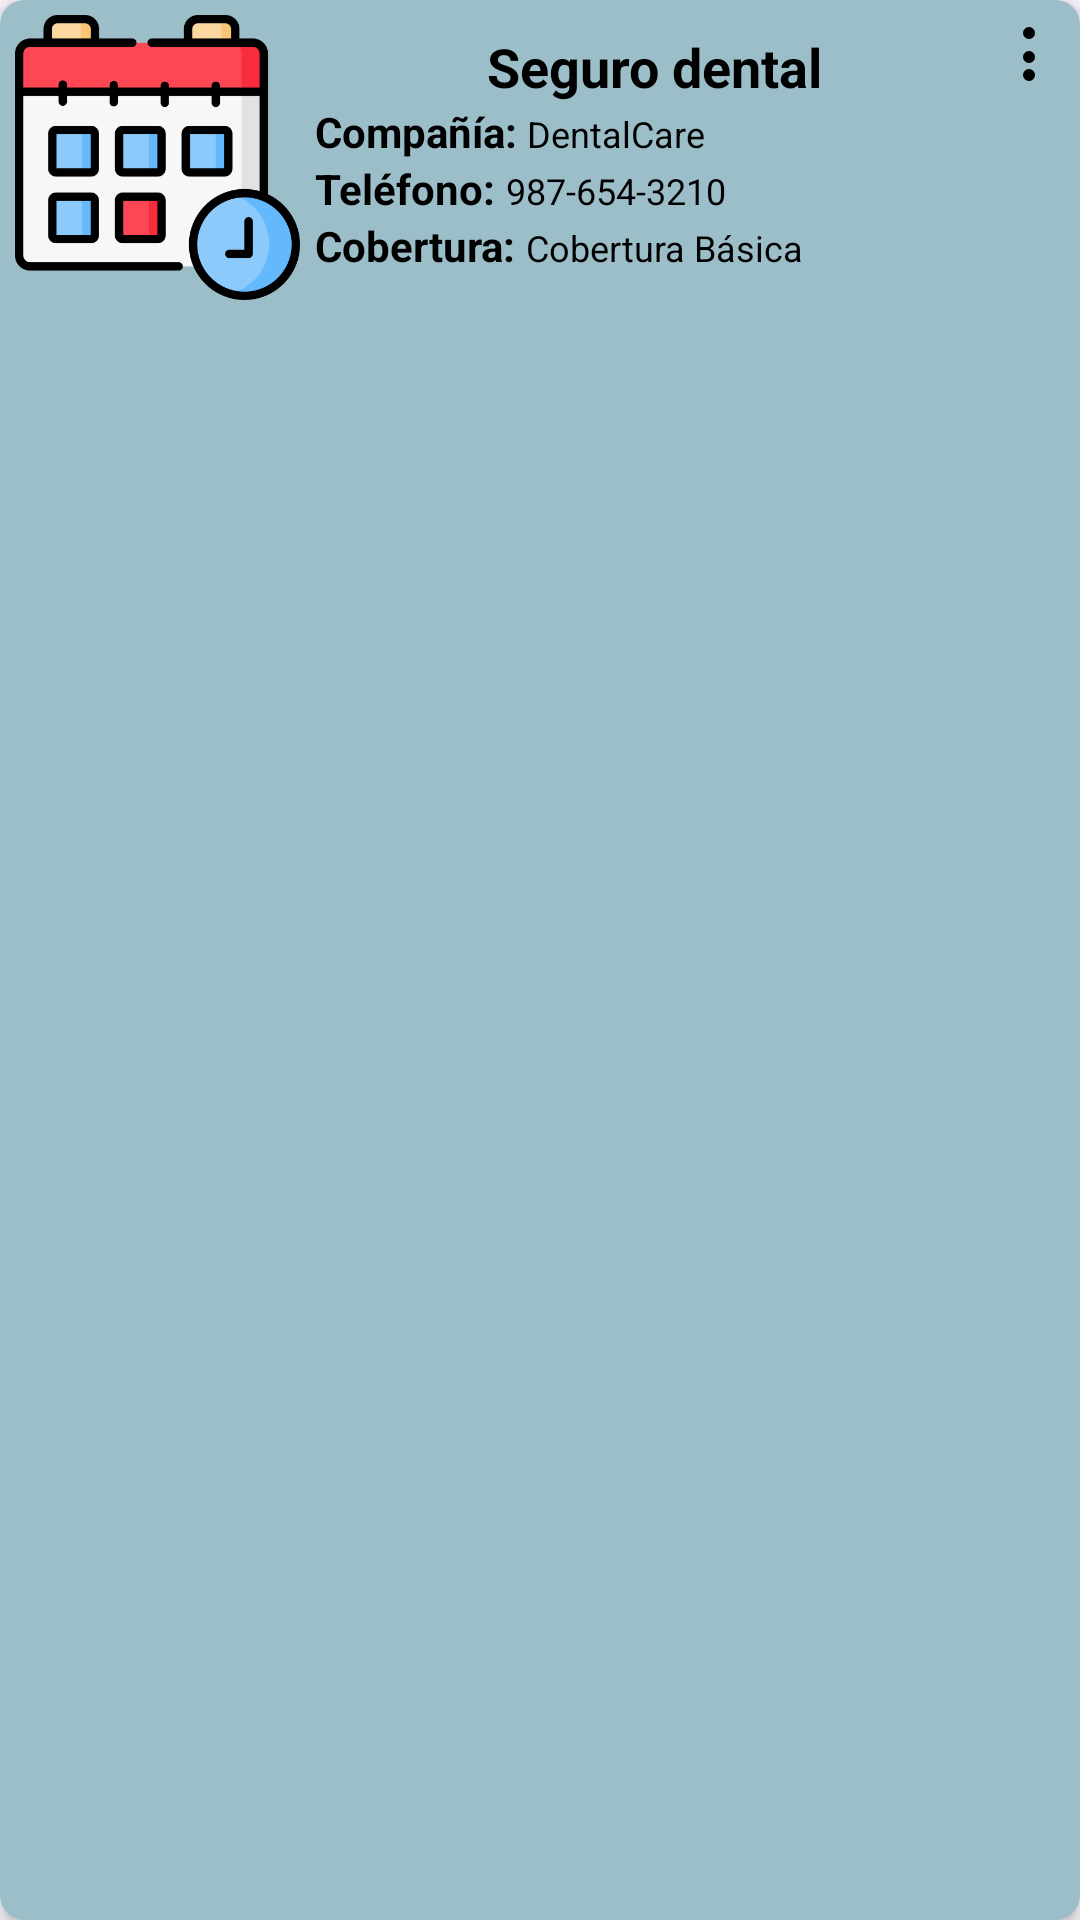

Where icons sit on this 1080 × 1920 app screen, as (x1, y1, x2, y2):
cita programada: (15, 15, 300, 300)
Options: (1023, 27, 1035, 81)
